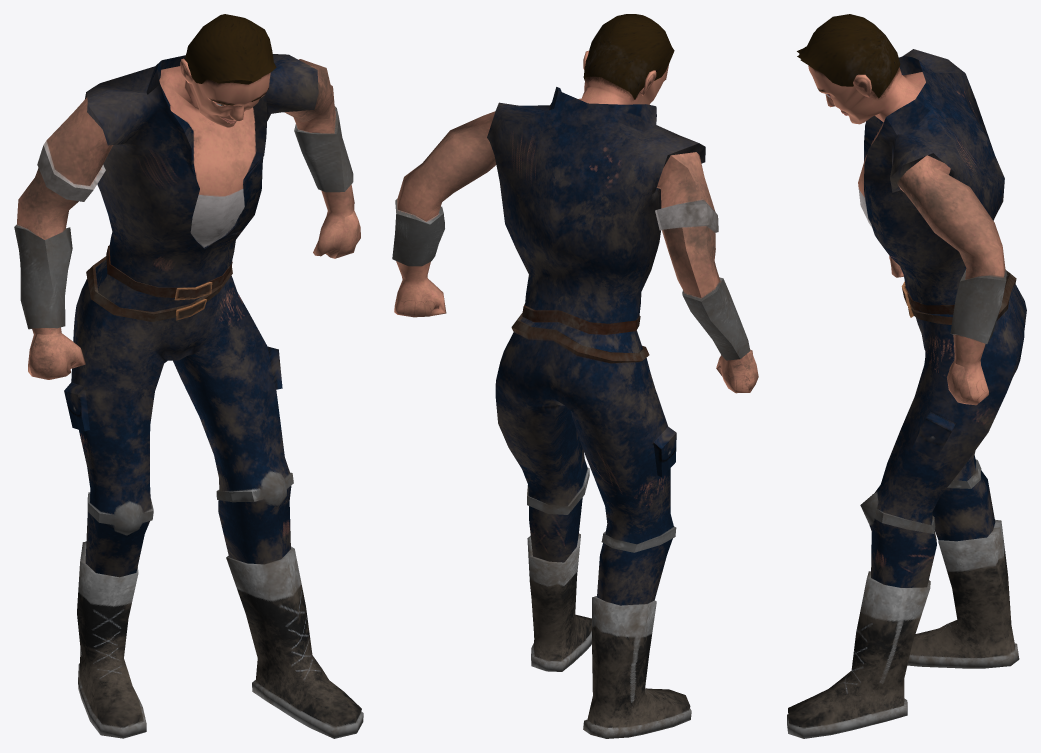
The model's file is Anim_coger_objeto_jugador.0021.obj.
3 renders of one model, left to right at view 1: azimuth 30°, elevation 25°; view 2: azimuth 150°, elevation 25°; view 3: azimuth 270°, elevation 25°, orthographic. The views are drawn at different scales.
Parts seen in each view (by area): view 1: polySurface1; view 2: polySurface1; view 3: polySurface1.
Part boxes in pixels (<box>): polySurface1: <box>14,14,363,738</box>; polySurface1: <box>392,14,758,738</box>; polySurface1: <box>787,14,1026,738</box>.
Bounding box in the file's own units: 4.82 × 9.22 × 2.96.
